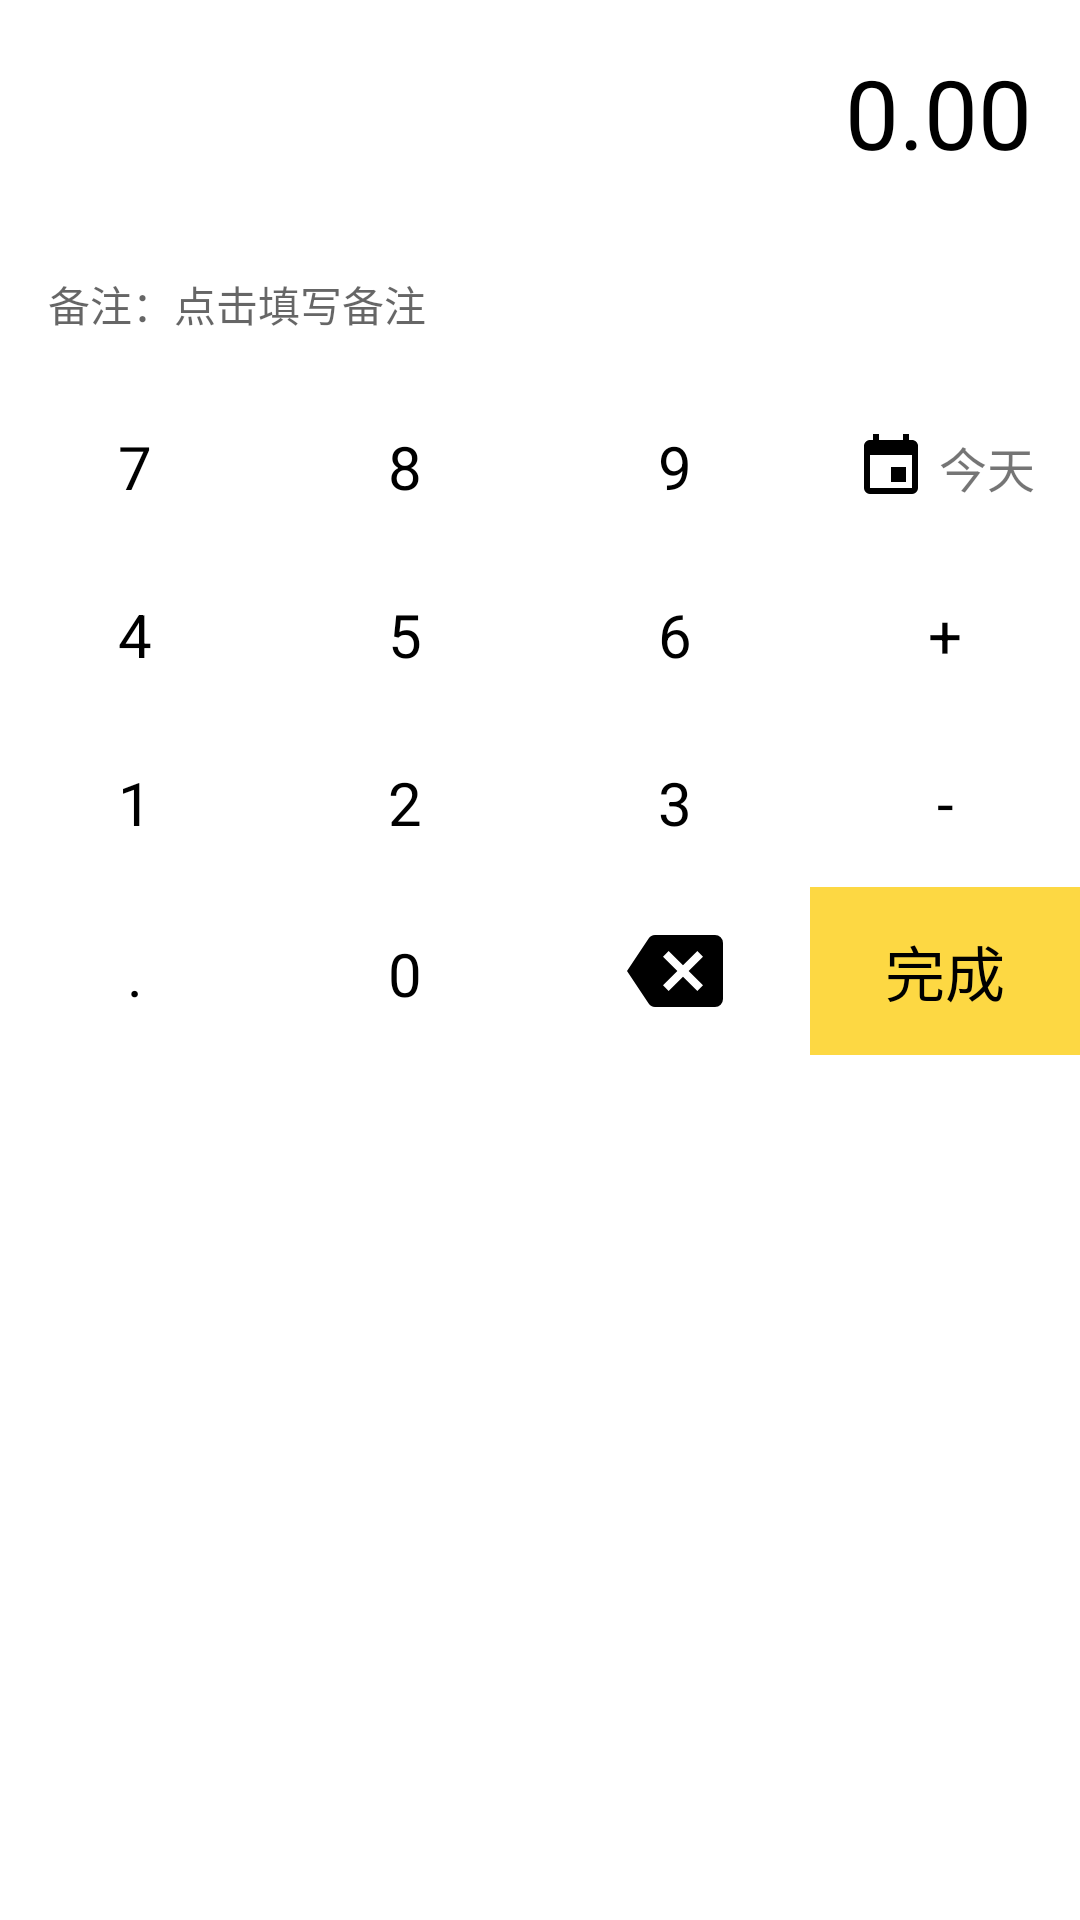

Point at icon controls on the screen. Image size 1080 × 1920, points as (x,y).
backspace: (675,971)
calendar: (891,464)
